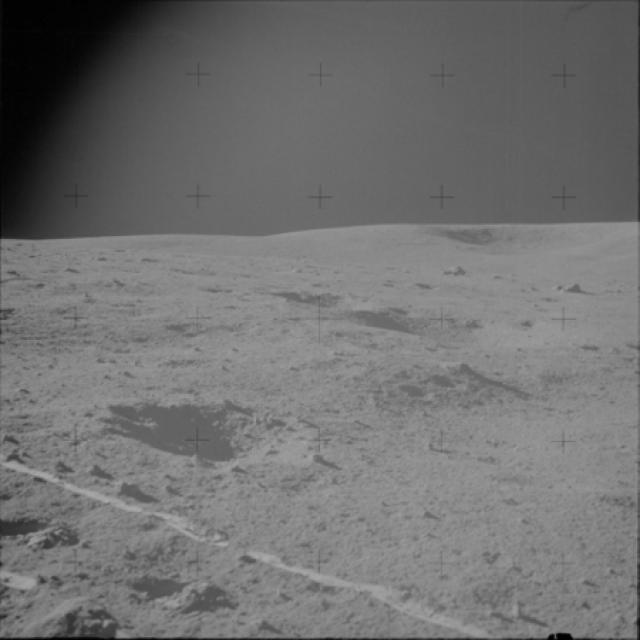crater: (102, 390, 320, 484), (342, 294, 506, 352), (265, 282, 370, 314), (0, 506, 67, 540), (187, 279, 246, 301), (390, 381, 433, 411), (423, 368, 464, 388)
rock: (121, 564, 224, 610), (32, 590, 116, 639), (0, 427, 31, 465), (554, 278, 594, 299), (434, 358, 488, 372), (80, 456, 105, 484), (441, 256, 474, 276), (110, 478, 142, 498), (51, 454, 71, 479)
